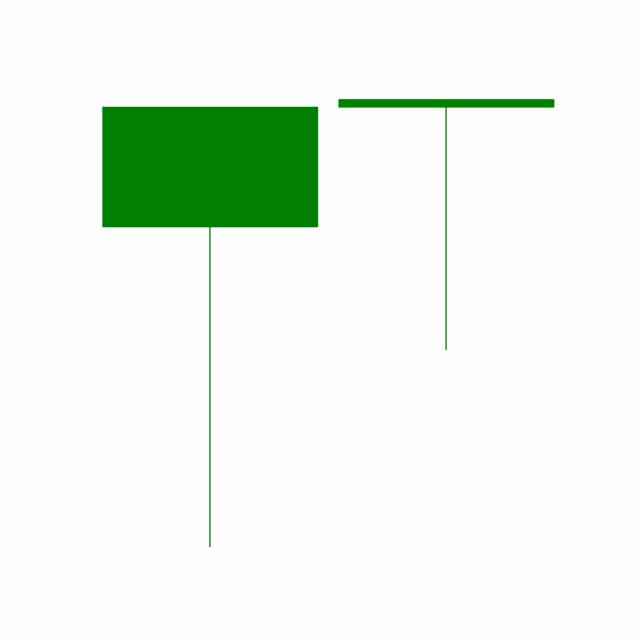Hanging Man: (327, 96, 565, 353)
